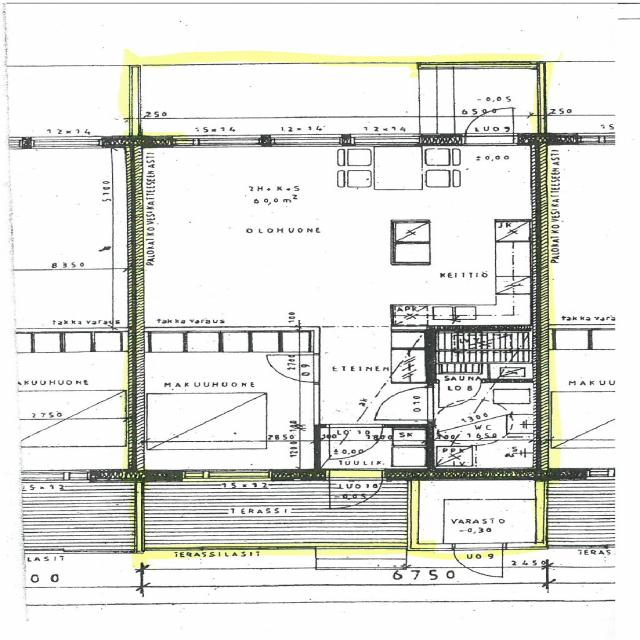door: (329, 470, 382, 511), (371, 387, 433, 420), (465, 107, 514, 147), (329, 424, 384, 459), (454, 543, 503, 579), (266, 356, 320, 384), (439, 379, 480, 408)
